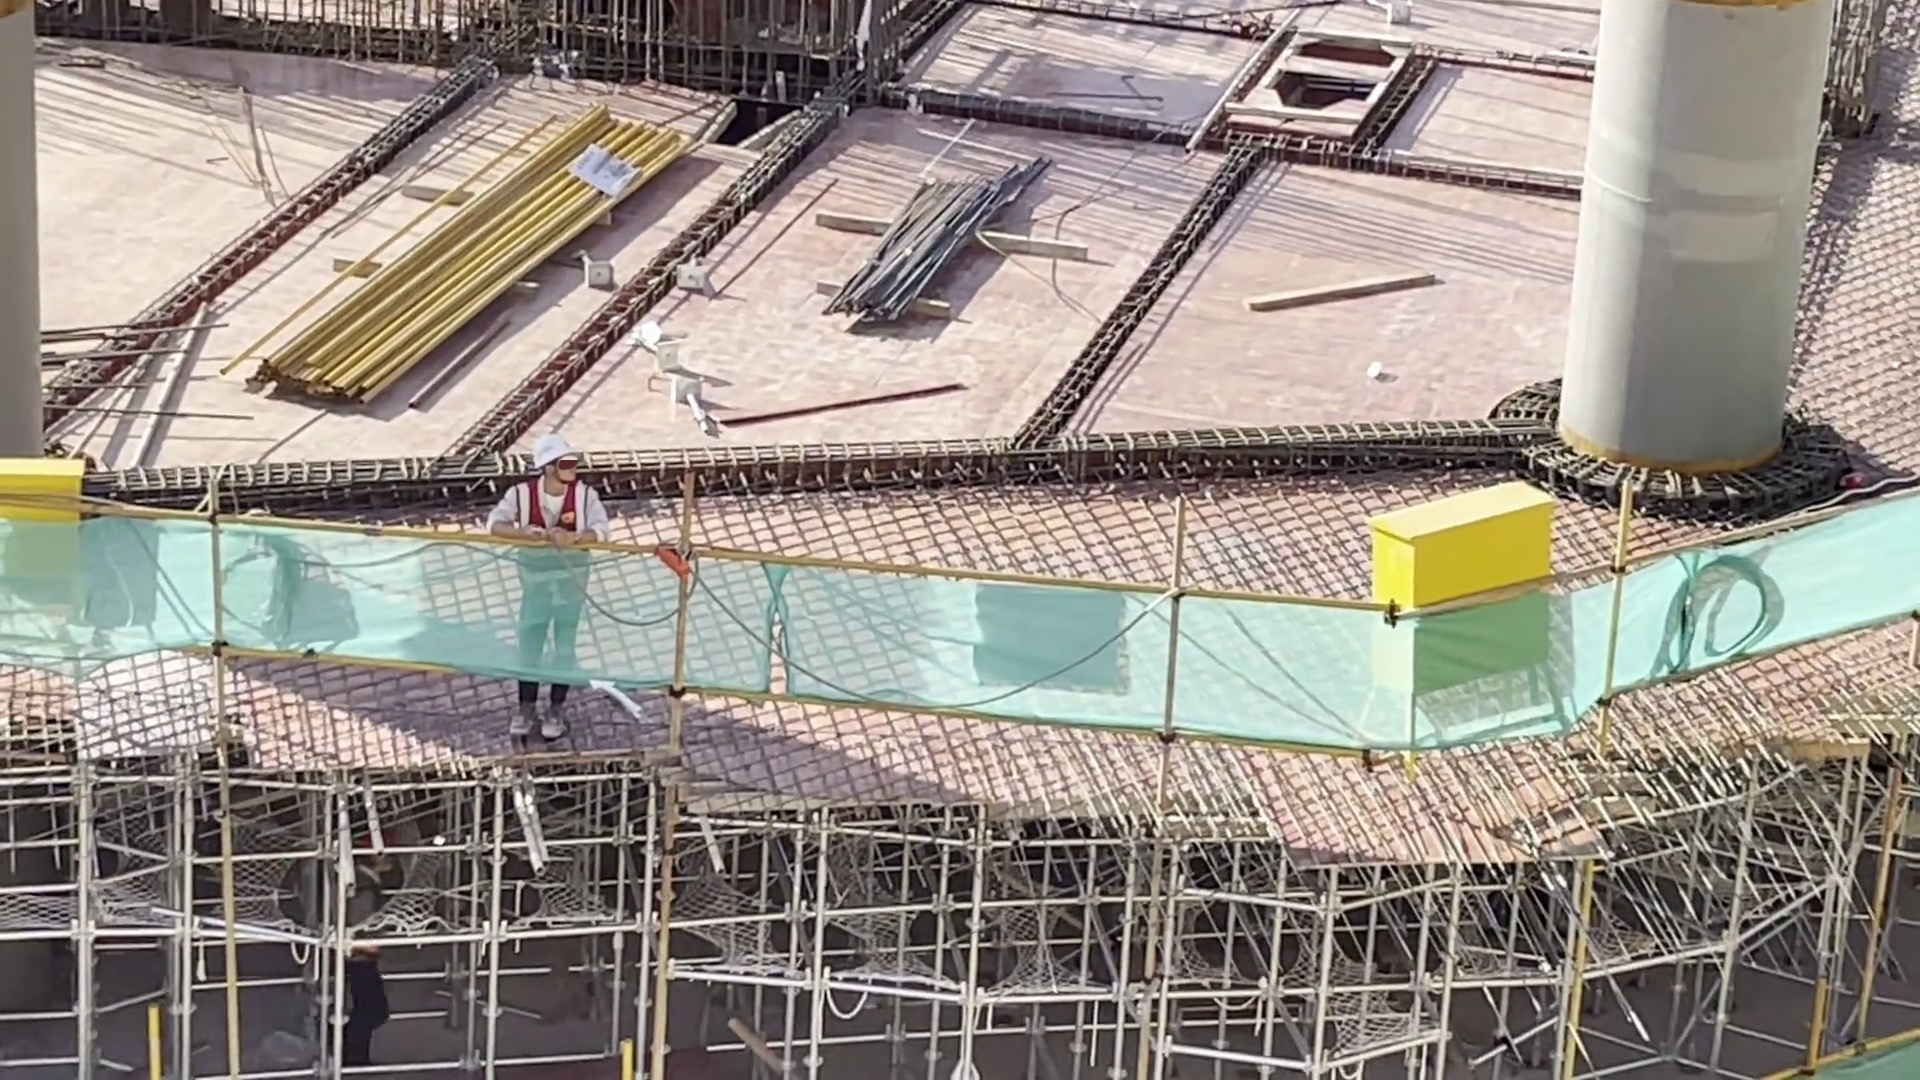ebox: (1391, 504, 1564, 689), (1, 457, 114, 632)
helmet: (533, 426, 583, 479), (368, 827, 399, 869)
person: (259, 835, 413, 1056), (519, 436, 583, 721)
rebar: (843, 156, 1013, 309)
vest: (324, 877, 388, 989), (528, 511, 581, 612)
